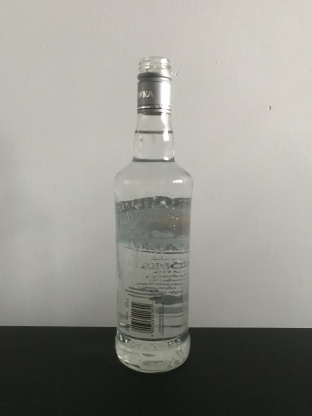nakretka: (135, 56, 173, 115)
